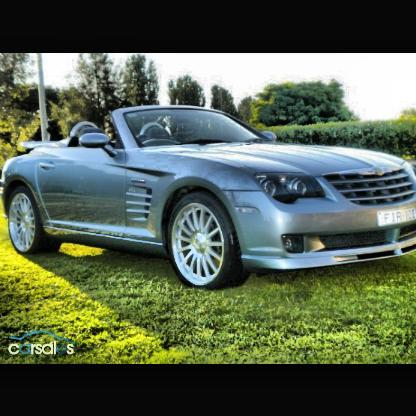Chrysler Crossfire Convertible 2008: (4, 105, 416, 291)
